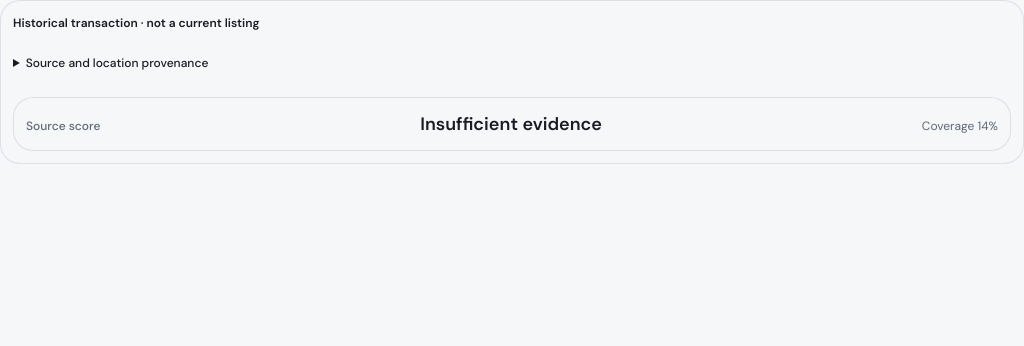
Test: EvidenceContext › shows a null score as insufficient evidence while retaining coverage and missing evidence
This screenshot has width=1024, height=346.
Check: the text "Insufficient evidence" is shown, box [420,110,602,138]
Check: the text "Coverage 14%" is shown, box [922,118,998,134]
Click the button named "view score evidence".
click(512, 124)  # box [26,110,998,138]
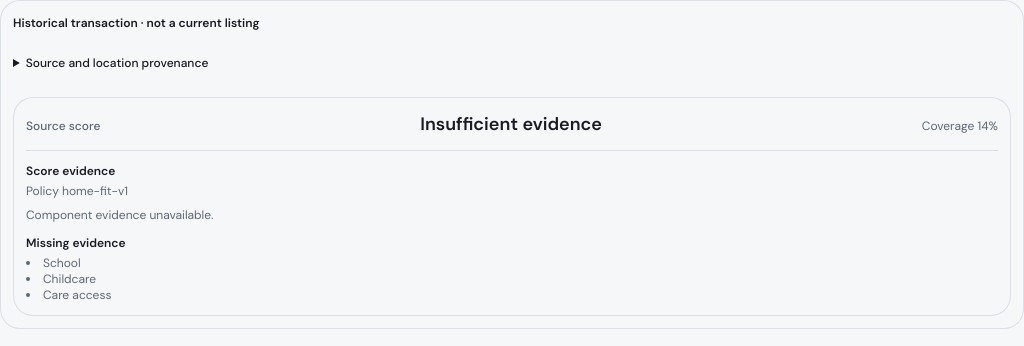
Check: the list named "Missing evidence" shows "School", box [43,255,81,271]
Check: the list named "Missing evidence" shows "Childcare", box [43,271,96,287]
Check: the list named "Missing evidence" shows "care", box [43,287,112,303]
